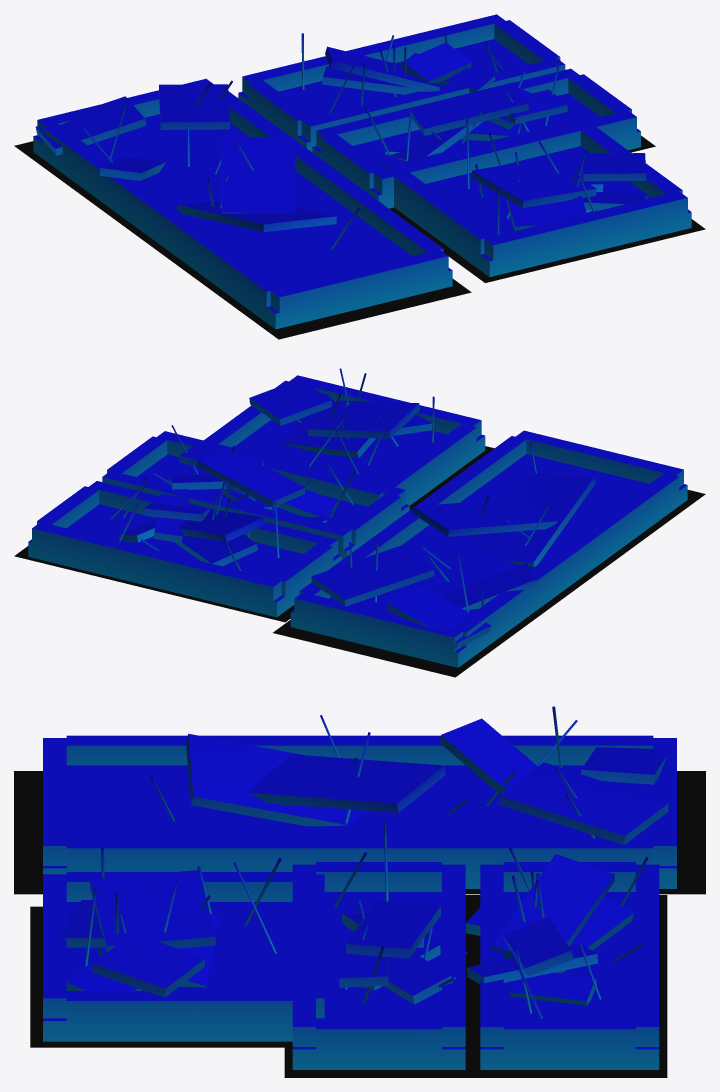
The model's file is hpg_gen_destroyed.glb.
3 views of the same model, one above another, from view 1: azimuth 30°, elevation 25°; view 2: azimuth 150°, elevation 25°; view 3: azimuth 270°, elevation 25° (orthographic). The views are drawn at different scales.
Visible parts, largest first — view 1: lod0; view 2: lod0; view 3: lod0.
Part boxes in pixels (x1,y1,x2,y2): lod0: (14,14,705,339); lod0: (14,368,705,677); lod0: (14,706,705,1077).
Size of what is drawn, in the model's own units: 24.79 by 4.23 by 23.59.
